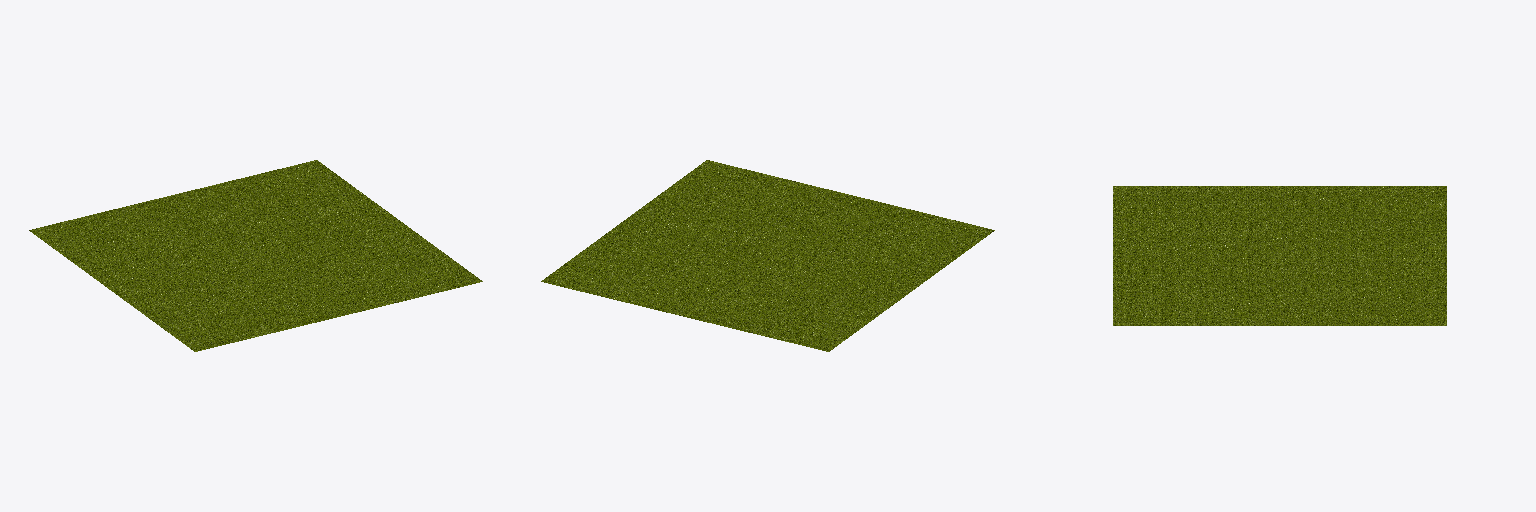
3 renders of one model, left to right at view 1: azimuth 30°, elevation 25°; view 2: azimuth 150°, elevation 25°; view 3: azimuth 270°, elevation 25°, orthographic.
Visible parts, largest first — view 1: pPlane1; view 2: pPlane1; view 3: pPlane1.
Boxes of the visible parts, box(x1,y1,x2,y2) form: pPlane1: box(29, 160, 482, 351); pPlane1: box(541, 160, 994, 351); pPlane1: box(1113, 186, 1446, 325).
Bounding box in the file's own units: 1 × 0 × 1.
1 materials, 1 textured.